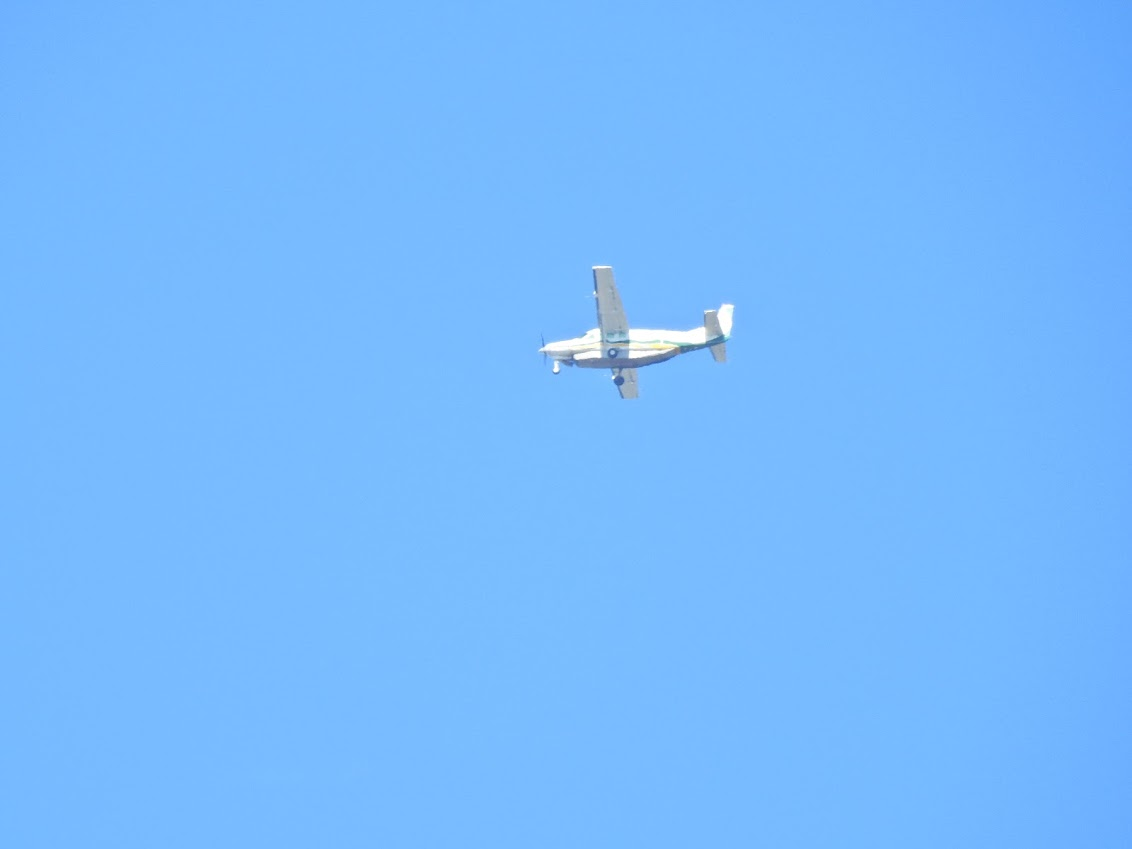aircraft: (534, 265, 736, 401)
